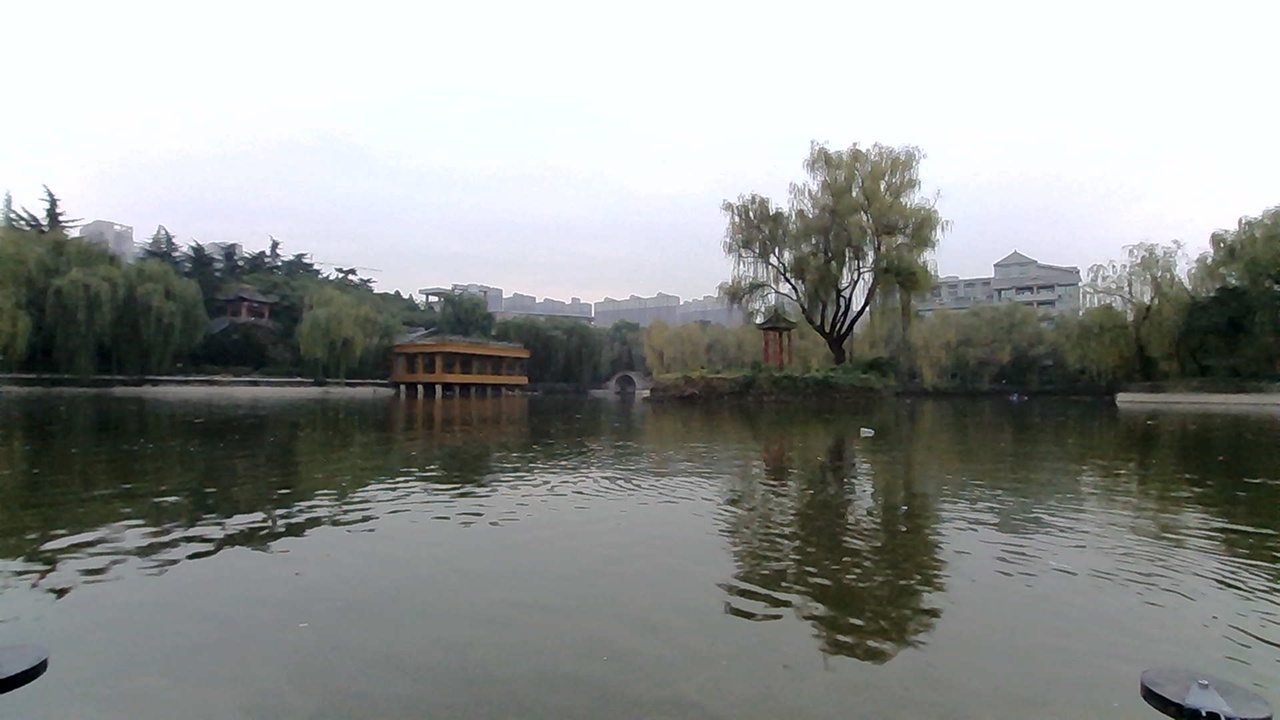bottle: (847, 412, 902, 444)
